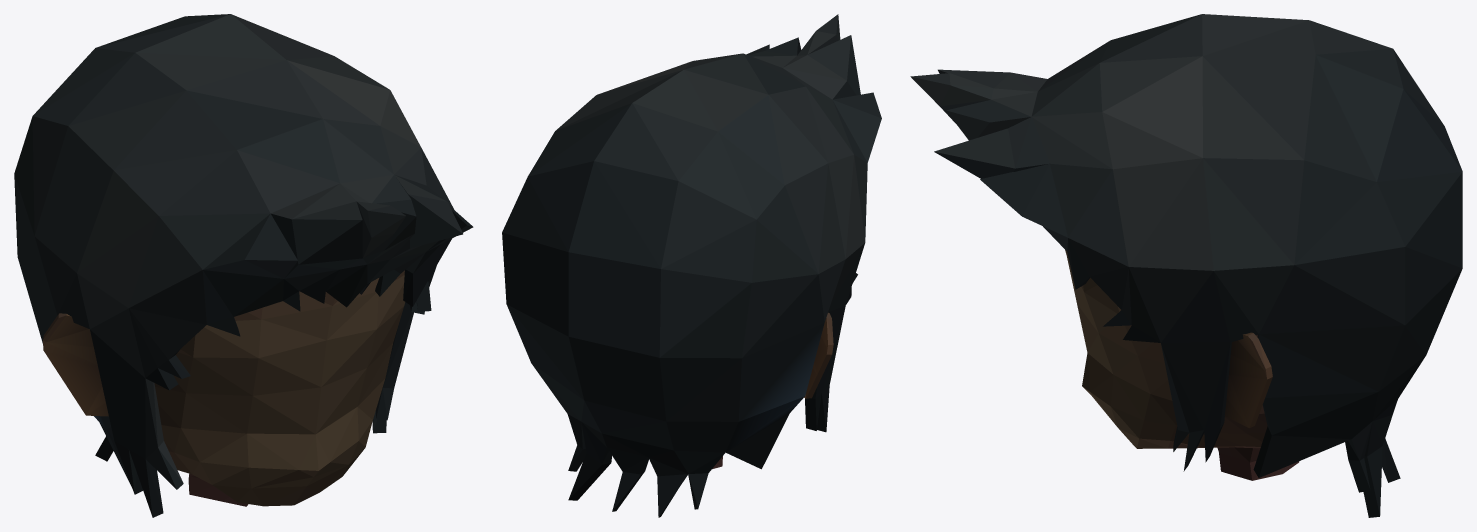
The model's file is helm_darkskin_standard_black.fbx.
The picture shows the model from 3 angles, left to right: view 1: azimuth 30°, elevation 25°; view 2: azimuth 150°, elevation 25°; view 3: azimuth 270°, elevation 25°; orthographic projection. The views are drawn at different scales.
Visible parts, largest first — view 1: helm_darkskin_standard_black; view 2: helm_darkskin_standard_black; view 3: helm_darkskin_standard_black.
Boxes of the visible parts, <box> form: helm_darkskin_standard_black: <box>14,14,473,517</box>; helm_darkskin_standard_black: <box>502,14,881,517</box>; helm_darkskin_standard_black: <box>910,14,1462,517</box>.
Bounding box in the file's own units: 1.13 × 1.38 × 1.55.
